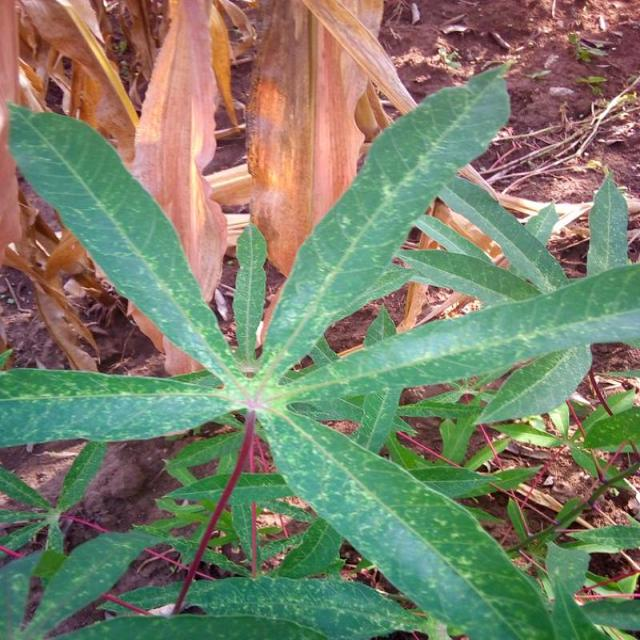cassava leaf: (0, 60, 638, 638), (255, 60, 512, 385), (4, 98, 246, 392)
